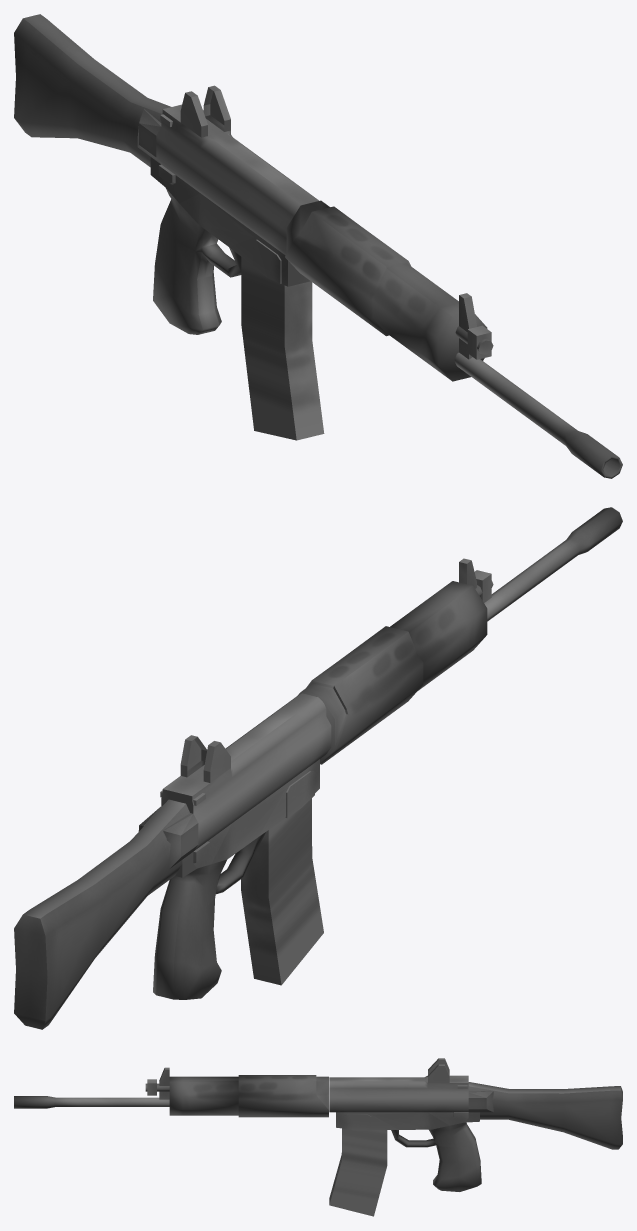
The model's file is Type 89 AR.FBX.
The picture shows the model from 3 angles, top to bottom: view 1: azimuth 30°, elevation 25°; view 2: azimuth 150°, elevation 25°; view 3: azimuth 270°, elevation 25°; orthographic projection. The views are drawn at different scales.
Visible parts, largest first — view 1: Box001; view 2: Box001; view 3: Box001.
Part boxes in pixels (x1,y1,x2,y2): Box001: (14, 14, 622, 478); Box001: (14, 507, 622, 1029); Box001: (14, 1058, 622, 1216).
Size of the model in its own units: 1.49 by 7.75 by 28.32.
